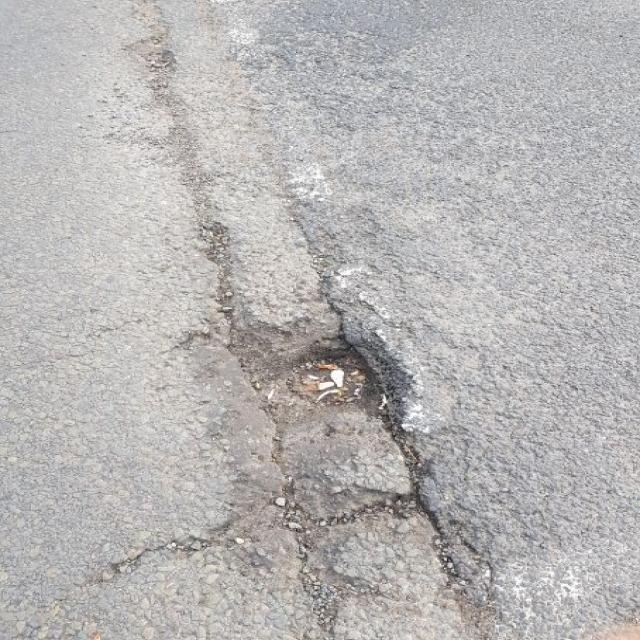pothole: (178, 322, 448, 534)
